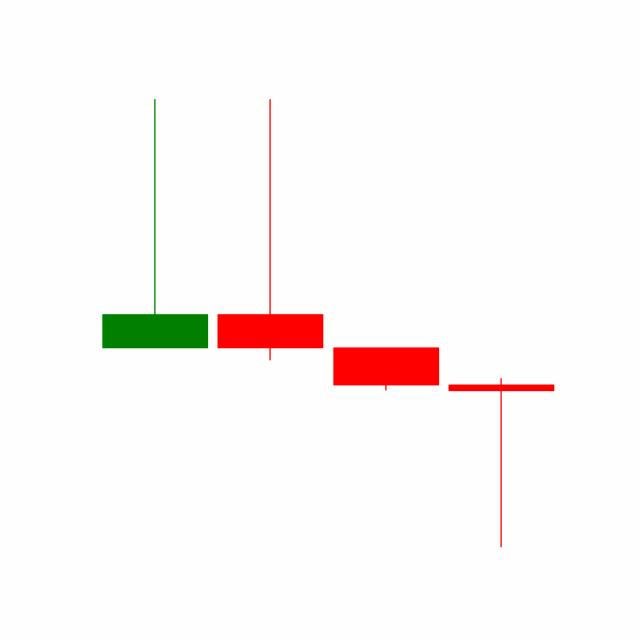Dragonfly Doji: (443, 376, 559, 549)
